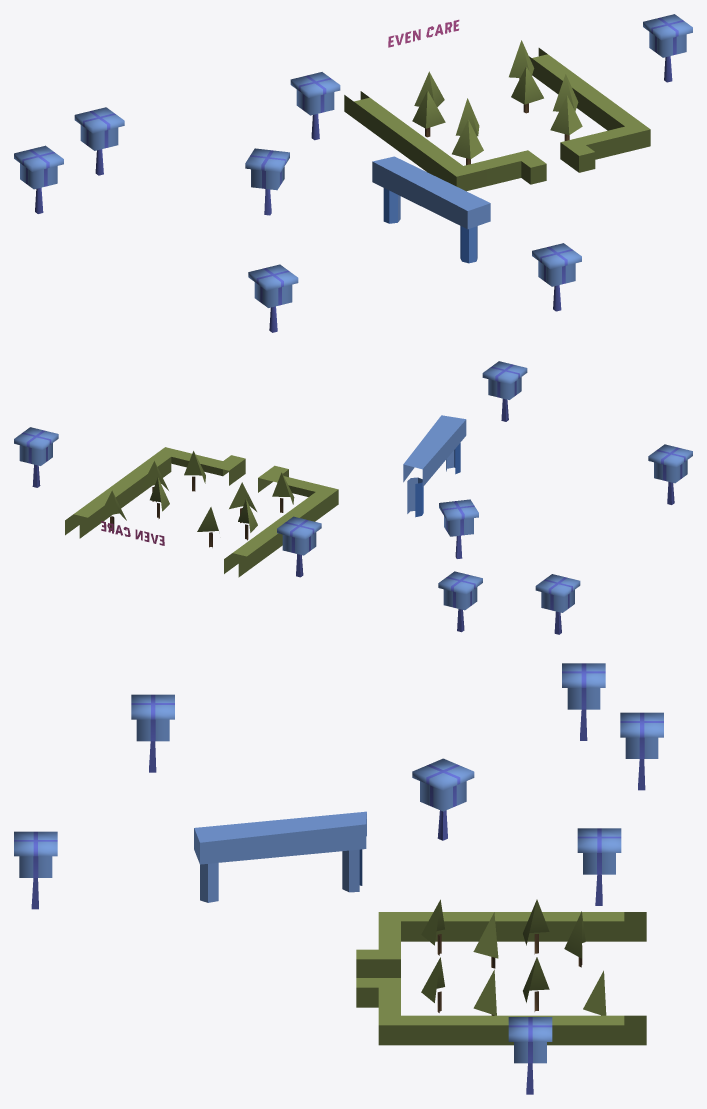
The model's file is giftplane1.obj.
The picture shows the model from 3 angles, top to bottom: view 1: azimuth 30°, elevation 25°; view 2: azimuth 150°, elevation 25°; view 3: azimuth 270°, elevation 25°; orthographic projection. The views are drawn at different scales.
Visible parts, largest first — view 1: Cylinder.001; view 2: Cylinder.001; view 3: Cylinder.001.
Part boxes in pixels (<box>): Cylinder.001: <box>14,14,692,332</box>; Cylinder.001: <box>14,361,692,634</box>; Cylinder.001: <box>14,663,663,1094</box>.
Bounding box in the file's own units: 39.46 × 3.43 × 30.41.
